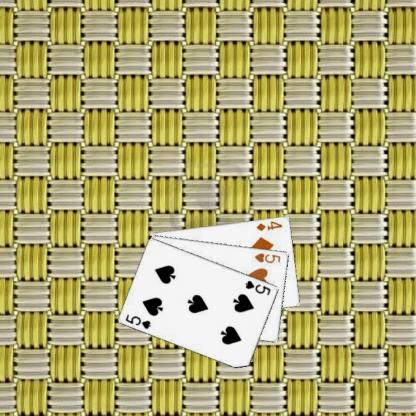4D: (254, 218, 283, 232)
5H: (252, 250, 282, 264)
5S: (243, 278, 272, 296), (123, 312, 152, 330)
